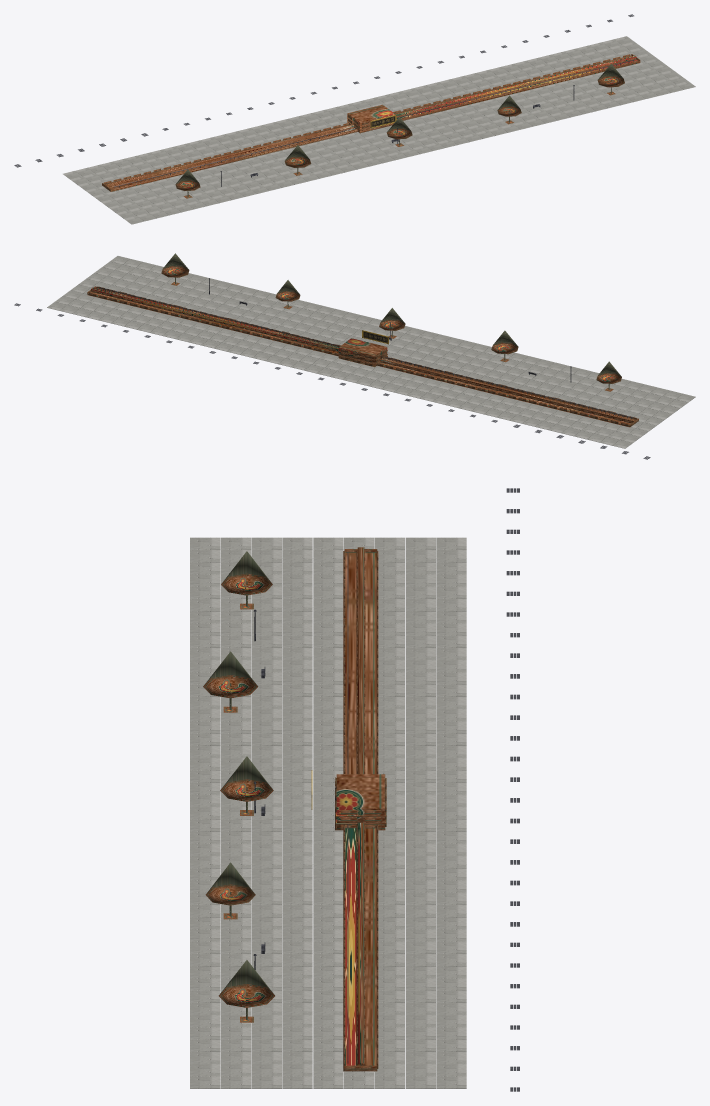
3 views of the same model, one above another, from view 1: azimuth 30°, elevation 25°; view 2: azimuth 150°, elevation 25°; view 3: azimuth 270°, elevation 25° (orthographic). The views are drawn at different scales.
Parts seen in each view (by area): view 1: 11140_02_04628_048_01__plinth_ground_base, 11140_02_04628_048_02__mass_body_facade, 11140_02_04628_048_06__landscape_greenery, 11140_02_04628_048_05__door_hardware_iron, 11140_02_04628_048_03__roof_deck_structure, 11140_02_04628_048_05__window_sash_glass; view 2: 11140_02_04628_048_01__plinth_ground_base, 11140_02_04628_048_02__mass_body_facade, 11140_02_04628_048_06__landscape_greenery, 11140_02_04628_048_05__door_hardware_iron, 11140_02_04628_048_03__roof_deck_structure; view 3: 11140_02_04628_048_01__plinth_ground_base, 11140_02_04628_048_02__mass_body_facade, 11140_02_04628_048_06__landscape_greenery, 11140_02_04628_048_03__roof_deck_structure, 11140_02_04628_048_05__door_hardware_iron.
Boxes of the visible parts, x1=… form: 11140_02_04628_048_01__plinth_ground_base: x1=63, y1=36, x2=695, y2=224; 11140_02_04628_048_02__mass_body_facade: x1=102, y1=54, x2=640, y2=191; 11140_02_04628_048_06__landscape_greenery: x1=175, y1=63, x2=624, y2=198; 11140_02_04628_048_05__door_hardware_iron: x1=113, y1=59, x2=635, y2=187; 11140_02_04628_048_03__roof_deck_structure: x1=14, y1=14, x2=633, y2=167; 11140_02_04628_048_05__window_sash_glass: x1=130, y1=63, x2=617, y2=184; 11140_02_04628_048_01__plinth_ground_base: x1=47, y1=256, x2=695, y2=448; 11140_02_04628_048_02__mass_body_facade: x1=87, y1=286, x2=638, y2=427; 11140_02_04628_048_06__landscape_greenery: x1=161, y1=253, x2=621, y2=391; 11140_02_04628_048_05__door_hardware_iron: x1=99, y1=278, x2=633, y2=418; 11140_02_04628_048_03__roof_deck_structure: x1=14, y1=303, x2=650, y2=459; 11140_02_04628_048_01__plinth_ground_base: x1=190, y1=537, x2=466, y2=1088; 11140_02_04628_048_02__mass_body_facade: x1=335, y1=547, x2=386, y2=1071; 11140_02_04628_048_06__landscape_greenery: x1=203, y1=551, x2=274, y2=1022; 11140_02_04628_048_03__roof_deck_structure: x1=506, y1=488, x2=519, y2=1091; 11140_02_04628_048_05__door_hardware_iron: x1=253, y1=552, x2=348, y2=1063.
Bounding box in the file's own units: 175 × 8.2 × 40.48.
Materials: 7 (7 with a texture image).
